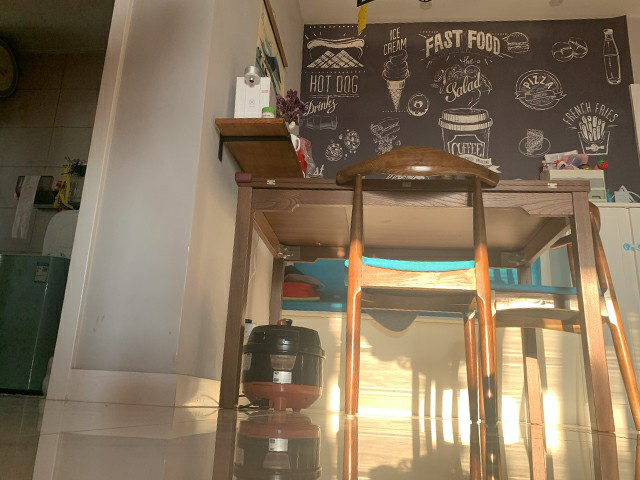cabinet: (560, 200, 640, 434)
stool: (334, 144, 499, 426), (478, 201, 640, 430)
table: (218, 171, 616, 434)
wire: (238, 397, 271, 411)
